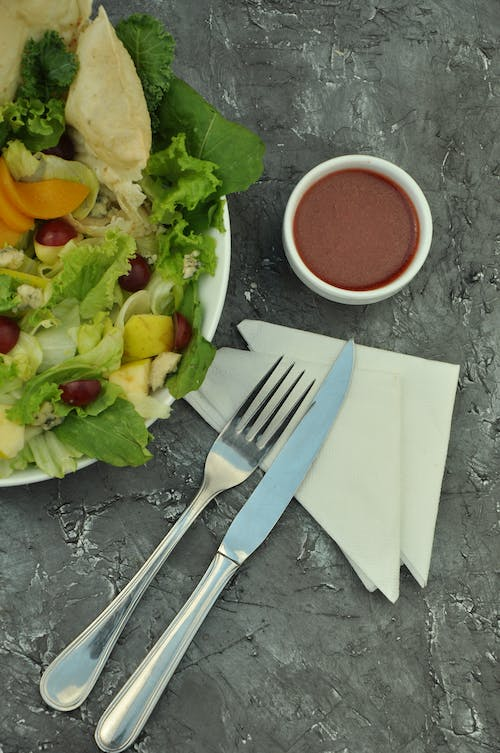knife: (92, 336, 358, 753)
